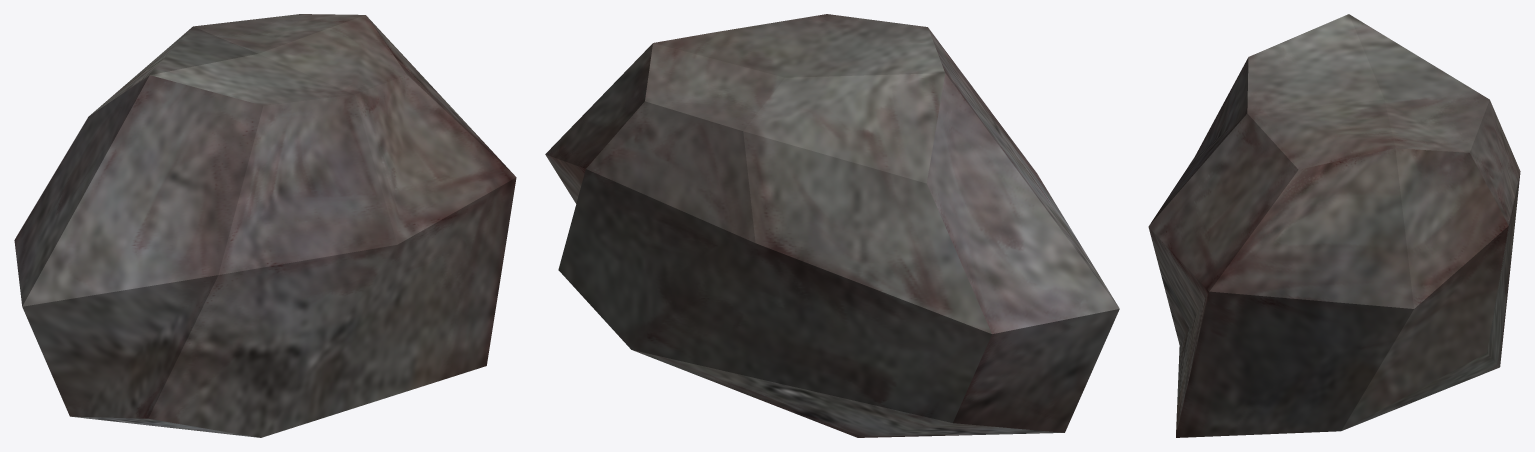
Rendered from rock.fbx.
The picture shows the model from 3 angles, left to right: view 1: azimuth 30°, elevation 25°; view 2: azimuth 150°, elevation 25°; view 3: azimuth 270°, elevation 25°; orthographic projection. The views are drawn at different scales.
Visible parts, largest first — view 1: rock; view 2: rock; view 3: rock.
Boxes of the visible parts, x1=… form: rock: x1=14, y1=14, x2=516, y2=437; rock: x1=545, y1=14, x2=1119, y2=437; rock: x1=1148, y1=14, x2=1520, y2=437.
Size of the model in its own units: 1.92 by 1.34 by 1.29.
